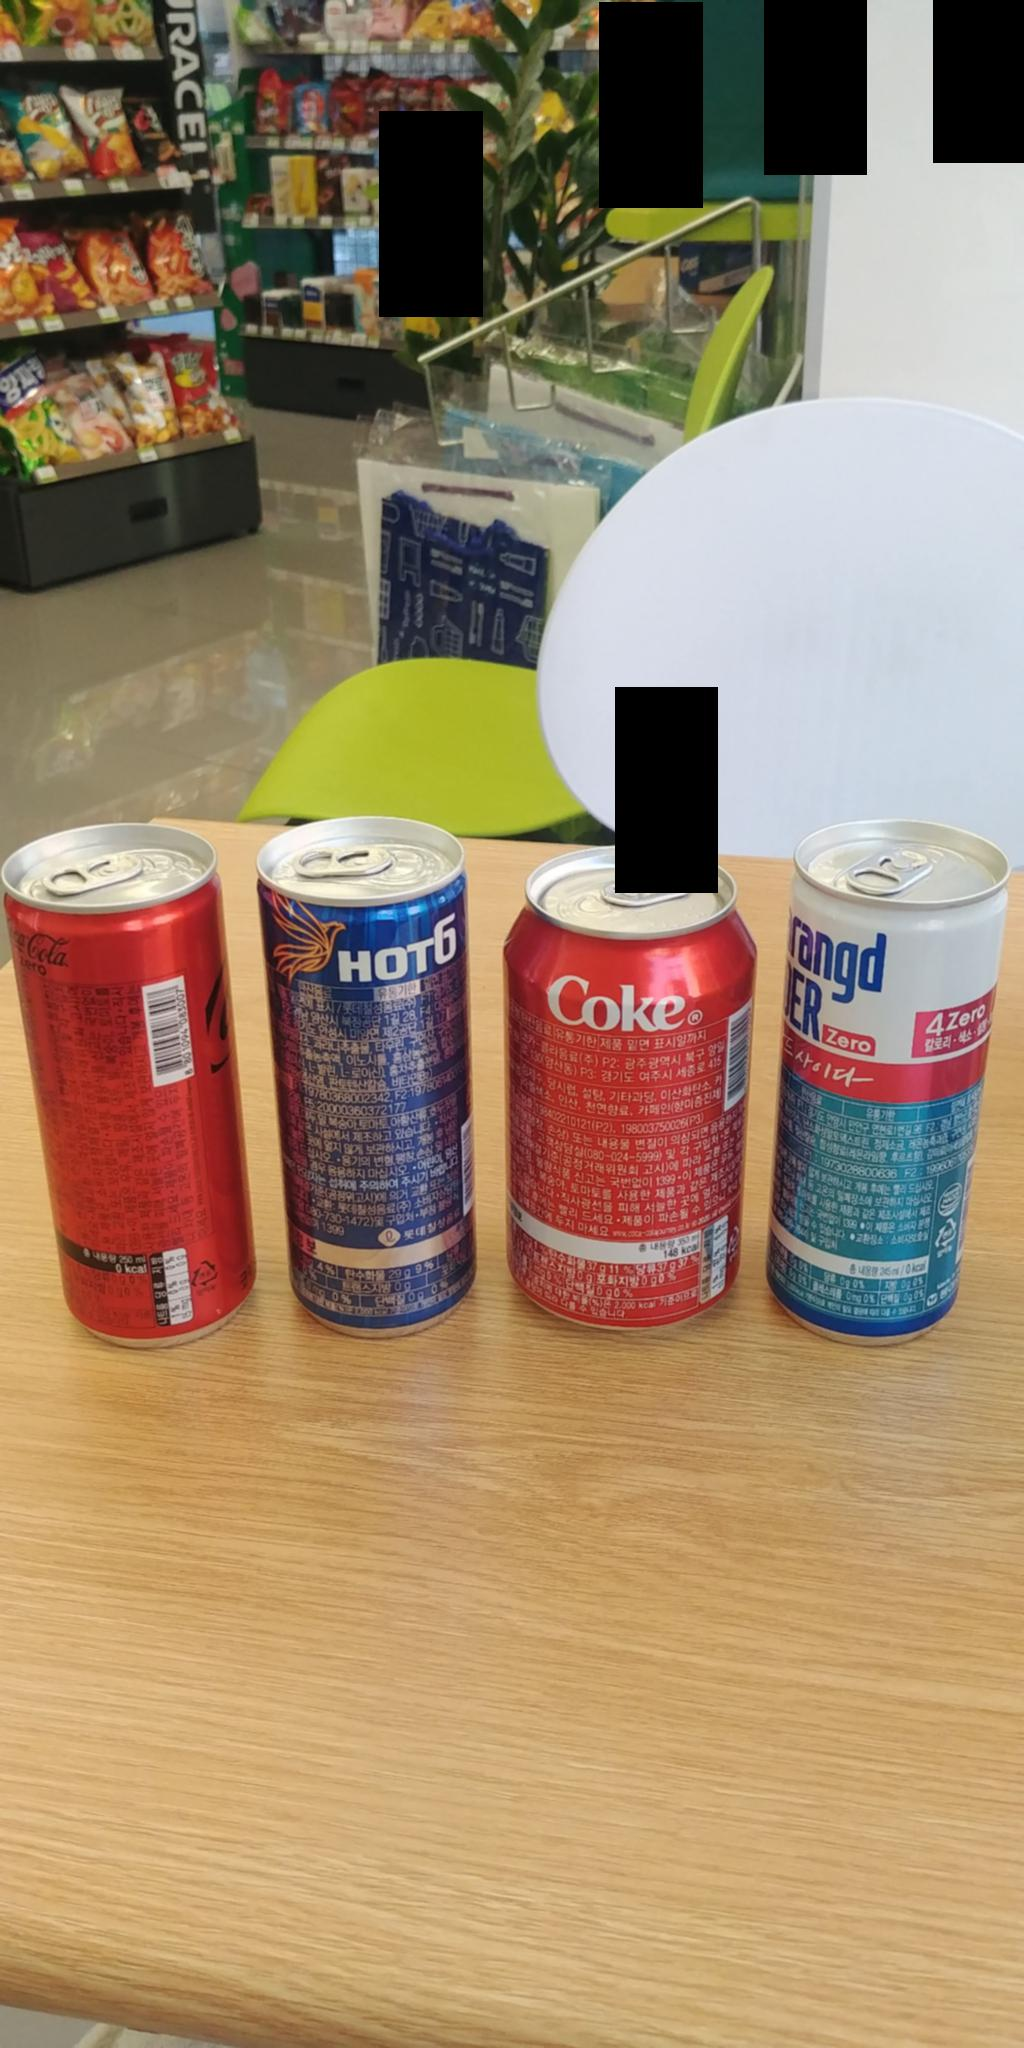cocacola: (522, 846, 741, 1335)
hotsix_org: (248, 807, 502, 1339)
narangdcider: (771, 816, 998, 1341)
